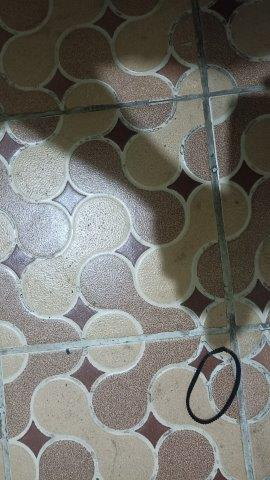karet: (186, 347, 242, 425)
